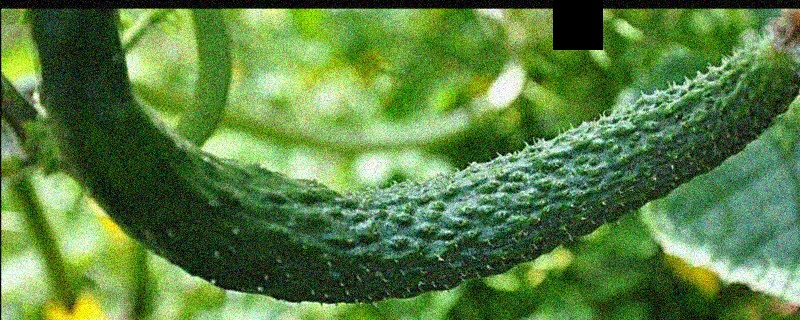cucumber: (50, 18, 793, 300)
